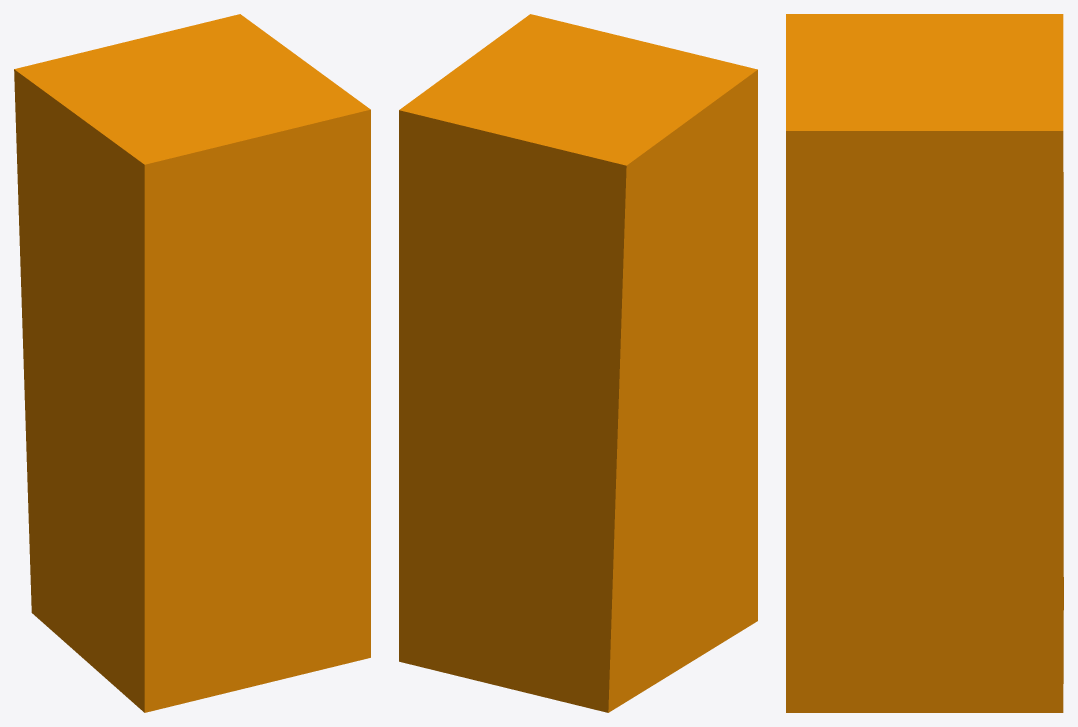
Rendered from TruckStoper_Body.FBX.
The picture shows the model from 3 angles, left to right: view 1: azimuth 30°, elevation 25°; view 2: azimuth 150°, elevation 25°; view 3: azimuth 270°, elevation 25°; orthographic projection. The views are drawn at different scales.
Visible parts, largest first — view 1: 闸机018; view 2: 闸机018; view 3: 闸机018.
Boxes of the visible parts, <box> form: 闸机018: <box>14,14,370,712</box>; 闸机018: <box>399,14,757,712</box>; 闸机018: <box>786,14,1063,712</box>.
Size of the model in its own units: 54 by 125 by 54.09.
